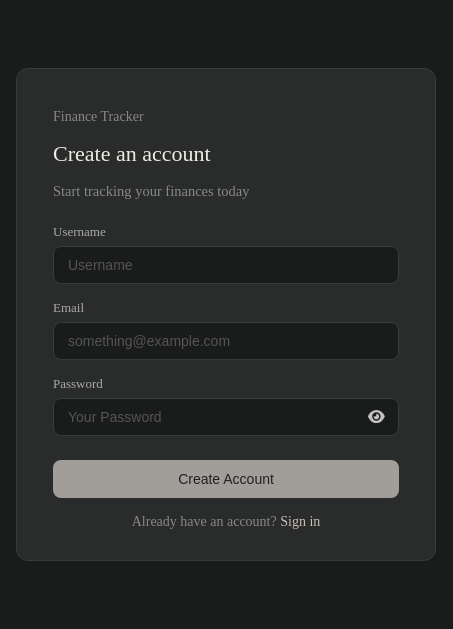
Register › shows all fields required error when username and email are empty
The width and height of the screenshot is (453, 629).
Type "Password123!" into the password field labelled "Password" at (226, 416), box 53,398 -> 399,436
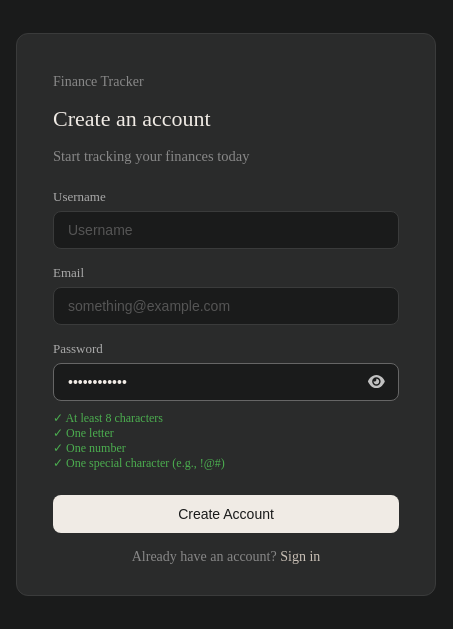
Expected: the button "Create Account" is enabled
Click the button "Create Account" at (226, 514), box 53,494 -> 399,532
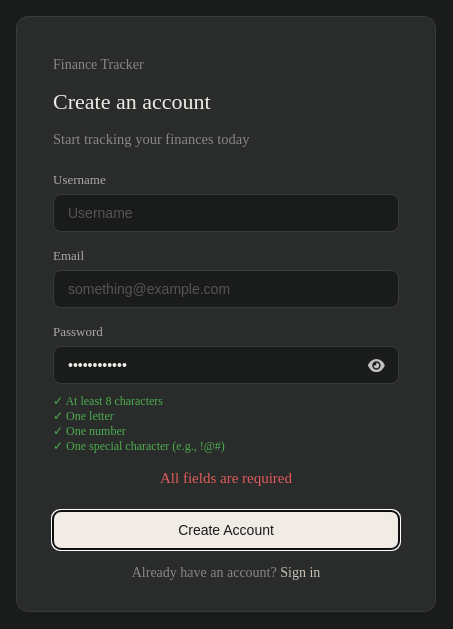
Expected: the text "All fields are required" is shown, 160,470 -> 292,486
